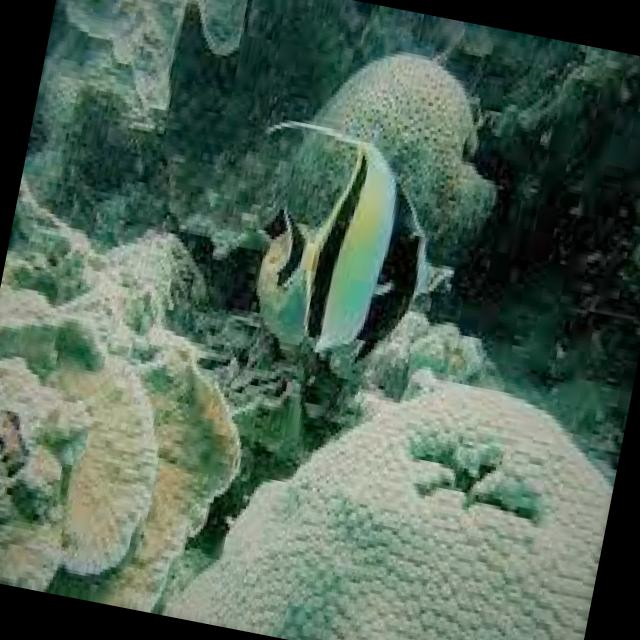MorishIdol: (223, 112, 477, 388)
